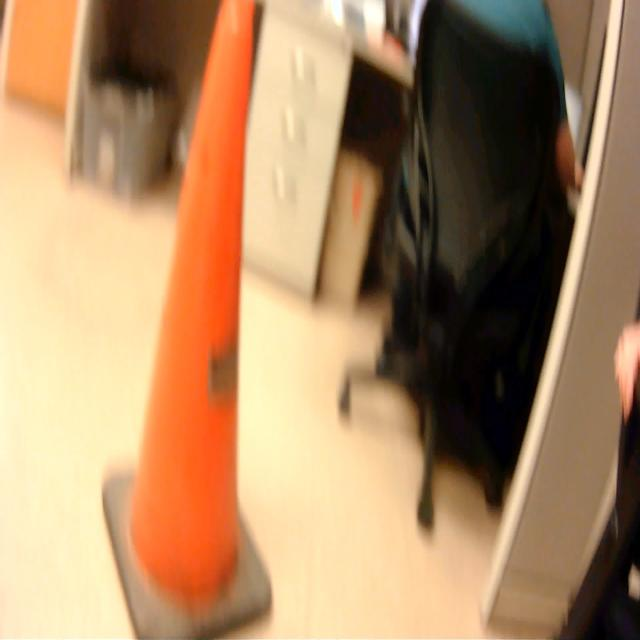traffic cone: (99, 1, 279, 640)
